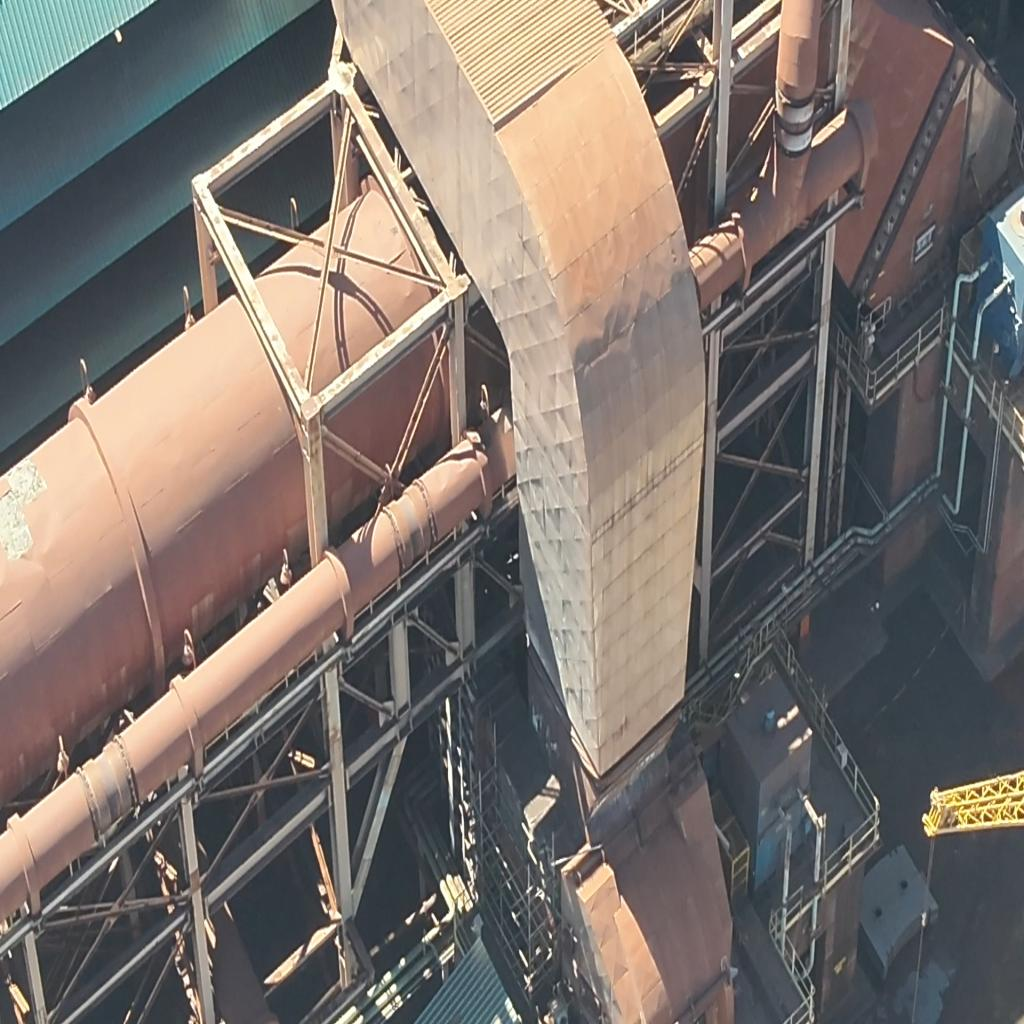Failures: (0, 496, 32, 566), (4, 454, 46, 501)
